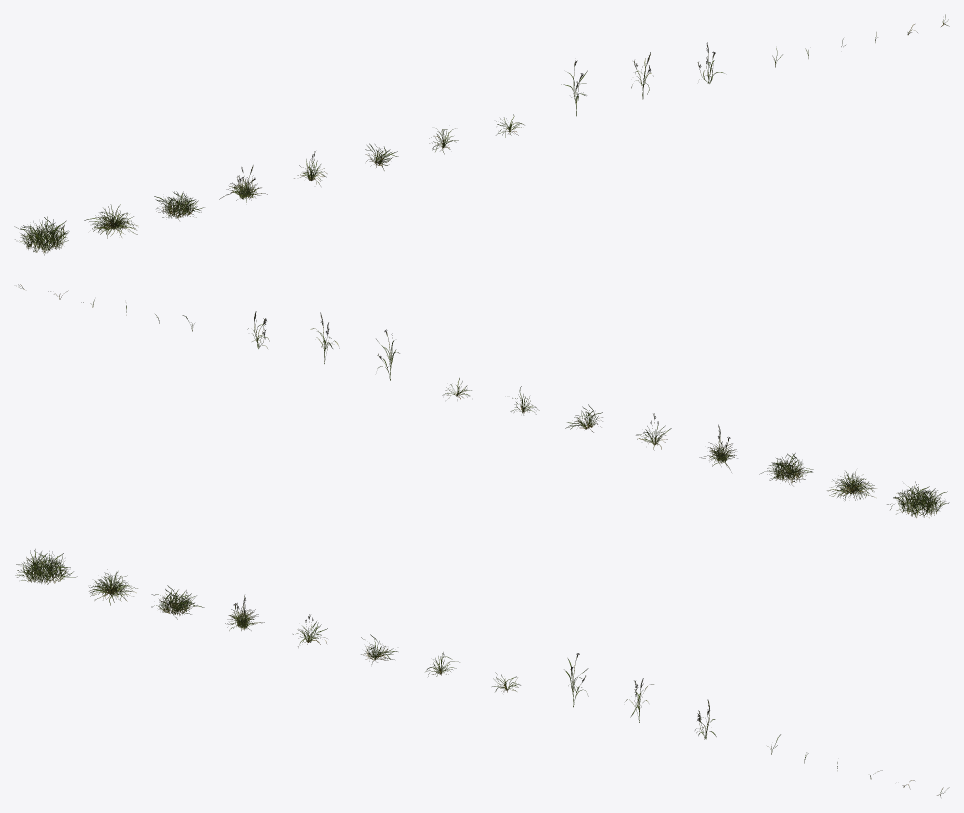
Rendered from grass_medium_01.glb.
3 views of the same model, one above another, from view 1: azimuth 30°, elevation 25°; view 2: azimuth 150°, elevation 25°; view 3: azimuth 330°, elevation 25° (orthographic).
Visible parts, largest first — view 1: grass_medium_01_large_a_LOD0, grass_medium_01_large_c_LOD0, grass_medium_01_large_b_LOD0; view 2: grass_medium_01_large_a_LOD0, grass_medium_01_large_c_LOD0, grass_medium_01_large_b_LOD0; view 3: grass_medium_01_large_a_LOD0, grass_medium_01_large_b_LOD0, grass_medium_01_large_c_LOD0.
Boxes of the visible parts, <box> form: grass_medium_01_large_a_LOD0: <box>14,216,69,255</box>; grass_medium_01_large_c_LOD0: <box>154,191,204,220</box>; grass_medium_01_large_b_LOD0: <box>84,204,137,238</box>; grass_medium_01_large_a_LOD0: <box>887,481,949,517</box>; grass_medium_01_large_c_LOD0: <box>759,453,813,486</box>; grass_medium_01_large_b_LOD0: <box>827,471,876,500</box>; grass_medium_01_large_a_LOD0: <box>15,549,77,584</box>; grass_medium_01_large_b_LOD0: <box>89,569,137,605</box>; grass_medium_01_large_c_LOD0: <box>151,585,204,619</box>.
Size of the model in its own units: 5.6 by 0.3426 by 0.3266.
1 material, 1 textured.
